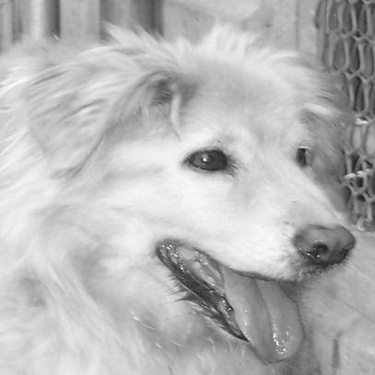dog: (2, 20, 371, 373)
